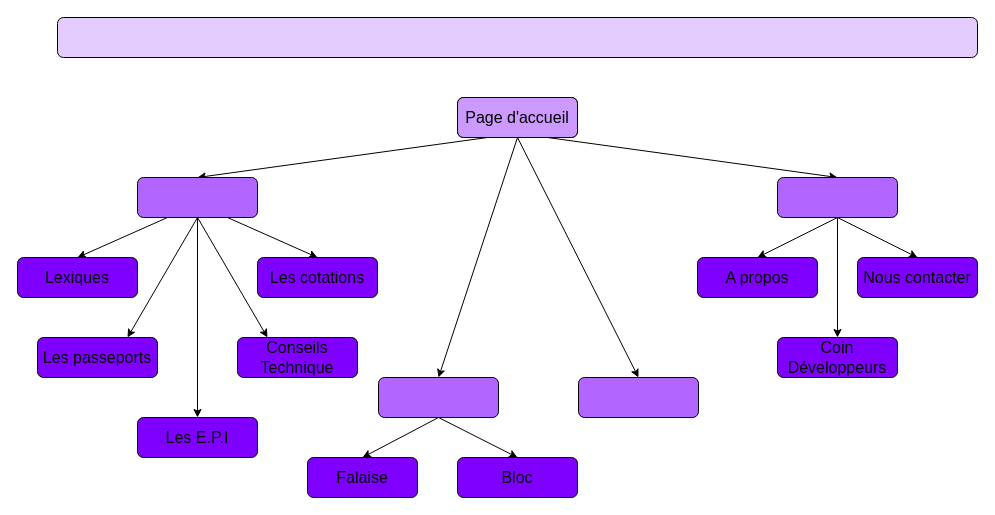
The diagram is 995 pixels wide and 515 high, and some of its shapes have lost their labels. Here are the shapes that lost their labels. From the top down, the box of each, then its label:
(56, 16, 978, 58): Vie Verticale ou La Voie
(136, 176, 258, 218): Boite à outils
(776, 176, 898, 218): Le projet
(378, 376, 498, 418): Topographies
(578, 376, 698, 418): Mentions légales
